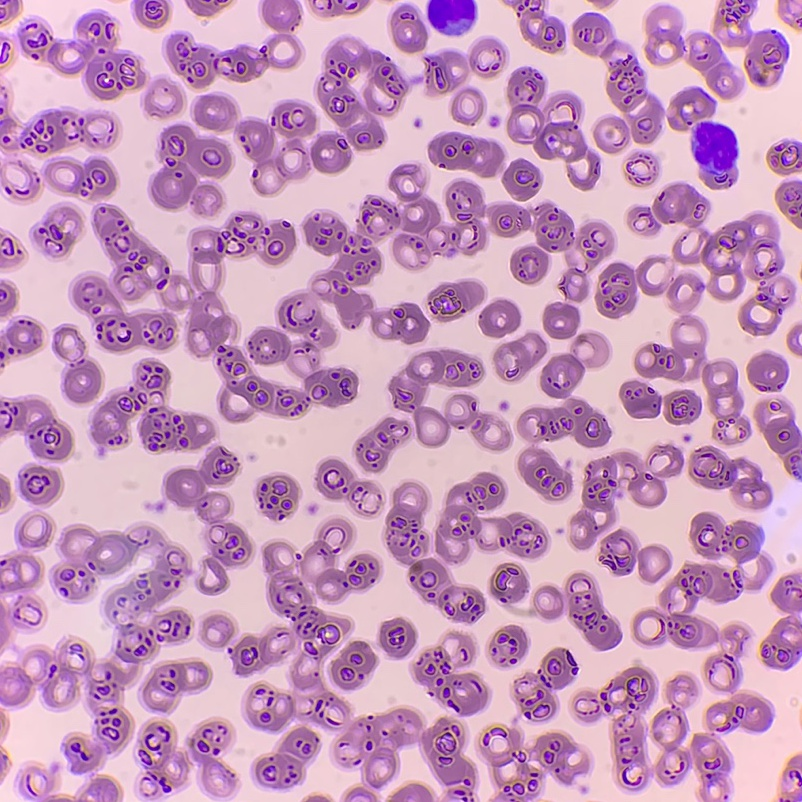RBC: (250, 164, 613, 368), (231, 519, 475, 799), (73, 205, 357, 422), (37, 525, 190, 772), (628, 183, 794, 335), (633, 512, 770, 691), (635, 315, 750, 444), (386, 482, 485, 622), (165, 447, 251, 594), (389, 350, 510, 450), (194, 95, 315, 194), (573, 13, 663, 143), (166, 0, 300, 87), (573, 445, 682, 548), (507, 68, 599, 189), (93, 360, 214, 451), (20, 14, 145, 99), (573, 667, 655, 791), (317, 39, 408, 150), (652, 675, 730, 801), (646, 7, 742, 98), (483, 728, 589, 801), (139, 722, 235, 798), (150, 125, 231, 215), (191, 214, 295, 283), (669, 88, 736, 189), (534, 573, 620, 650), (714, 0, 787, 86), (436, 473, 505, 562), (689, 446, 770, 509), (414, 648, 488, 715), (0, 111, 117, 152), (514, 648, 576, 721), (517, 399, 610, 447), (540, 333, 608, 398), (0, 399, 72, 460), (253, 728, 319, 788), (317, 459, 381, 515), (54, 327, 101, 403), (754, 399, 801, 475), (596, 263, 662, 317), (599, 531, 670, 581), (142, 662, 211, 712), (428, 134, 503, 177), (356, 418, 410, 472), (45, 158, 116, 199), (518, 448, 571, 500), (512, 0, 564, 52), (494, 333, 546, 380), (706, 694, 771, 731), (34, 207, 81, 256), (495, 513, 547, 557), (331, 641, 377, 689), (428, 281, 483, 321), (761, 615, 801, 668), (0, 320, 41, 366), (256, 475, 298, 519), (0, 597, 40, 643), (425, 52, 467, 94), (391, 6, 426, 52), (20, 465, 61, 504), (747, 352, 787, 391), (310, 134, 350, 172), (503, 160, 541, 200), (0, 554, 40, 592), (479, 300, 520, 337), (489, 626, 527, 665), (490, 563, 527, 603), (620, 381, 660, 417), (510, 246, 548, 283), (379, 619, 416, 657), (145, 79, 182, 116), (469, 39, 505, 77), (543, 303, 579, 338), (664, 390, 700, 424), (771, 573, 801, 613), (73, 776, 121, 801), (775, 181, 801, 227), (594, 118, 629, 152), (0, 667, 31, 705), (668, 274, 700, 310), (451, 89, 483, 124), (767, 142, 801, 174), (26, 767, 57, 801), (19, 515, 51, 547), (201, 615, 233, 647), (779, 755, 801, 801), (627, 154, 658, 186), (135, 0, 169, 28), (391, 784, 432, 801), (778, 0, 801, 29), (0, 282, 16, 316), (187, 0, 218, 16), (17, 177, 39, 199), (0, 238, 15, 267), (787, 324, 801, 355), (459, 635, 474, 660), (0, 0, 19, 17), (0, 477, 10, 508), (326, 0, 345, 15), (352, 0, 369, 11), (0, 754, 7, 770), (594, 0, 610, 6), (308, 796, 325, 801), (341, 621, 349, 629), (0, 714, 4, 728)
